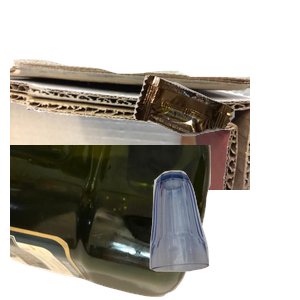cardboard: (10, 57, 250, 237)
glass: (147, 168, 300, 300)
plastic: (10, 145, 213, 300)
trash: (131, 73, 300, 202)
